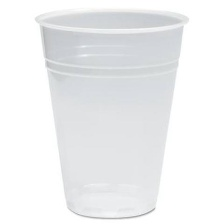glass: (32, 2, 194, 224)
